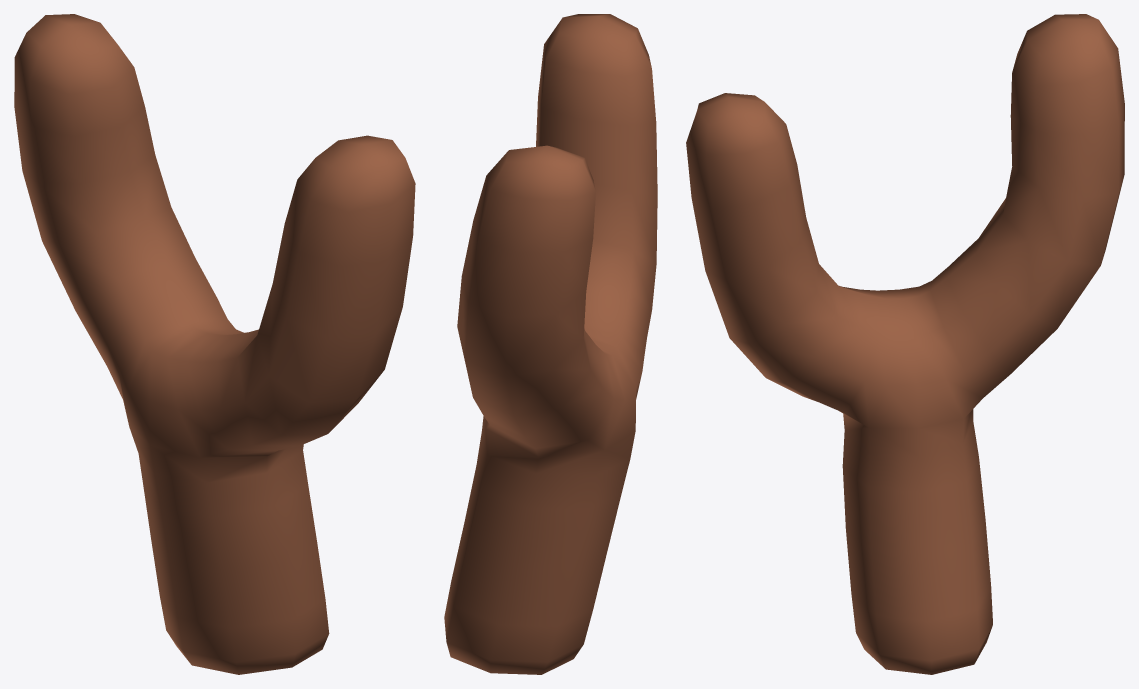
Rendered from Shrub_Btm_A_01.fbx.
The picture shows the model from 3 angles, left to right: view 1: azimuth 30°, elevation 25°; view 2: azimuth 150°, elevation 25°; view 3: azimuth 270°, elevation 25°; orthographic projection. The views are drawn at different scales.
Parts seen in each view (by area): view 1: Shrub_Btm_A_01_LOD0; view 2: Shrub_Btm_A_01_LOD0; view 3: Shrub_Btm_A_01_LOD0.
Boxes of the visible parts, bbox=[...] form: Shrub_Btm_A_01_LOD0: bbox=[14, 14, 415, 674]; Shrub_Btm_A_01_LOD0: bbox=[444, 14, 657, 674]; Shrub_Btm_A_01_LOD0: bbox=[686, 14, 1124, 674].
Size of what is drawn, in the model's own units: 122 by 322 by 220.
